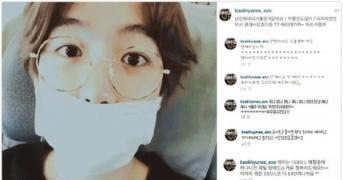WRONG: (35, 18, 165, 159)
